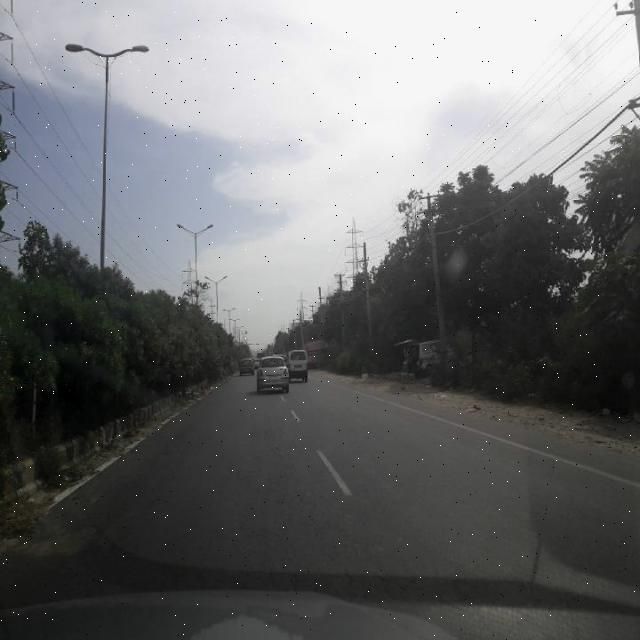D20: (123, 418, 577, 618)
